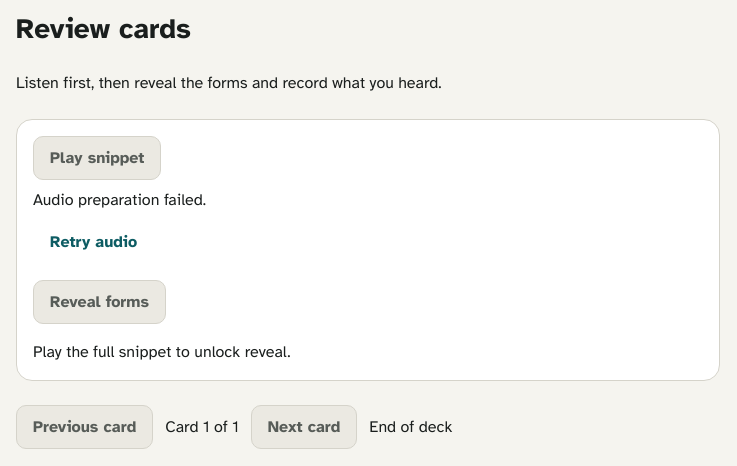
refreshes failed snippet status after a successful retry
Click the button "Retry audio" at {"x": 94, "y": 242}, box x1=33 y1=220 x2=154 y2=264
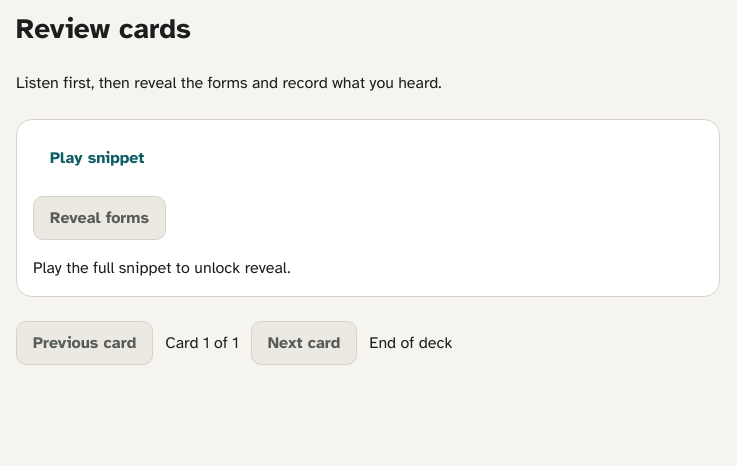
Expected: the button "Reveal forms" is disabled, x1=33 y1=196 x2=166 y2=240
Expected: the button "Play snippet" is enabled, x1=33 y1=136 x2=161 y2=180
